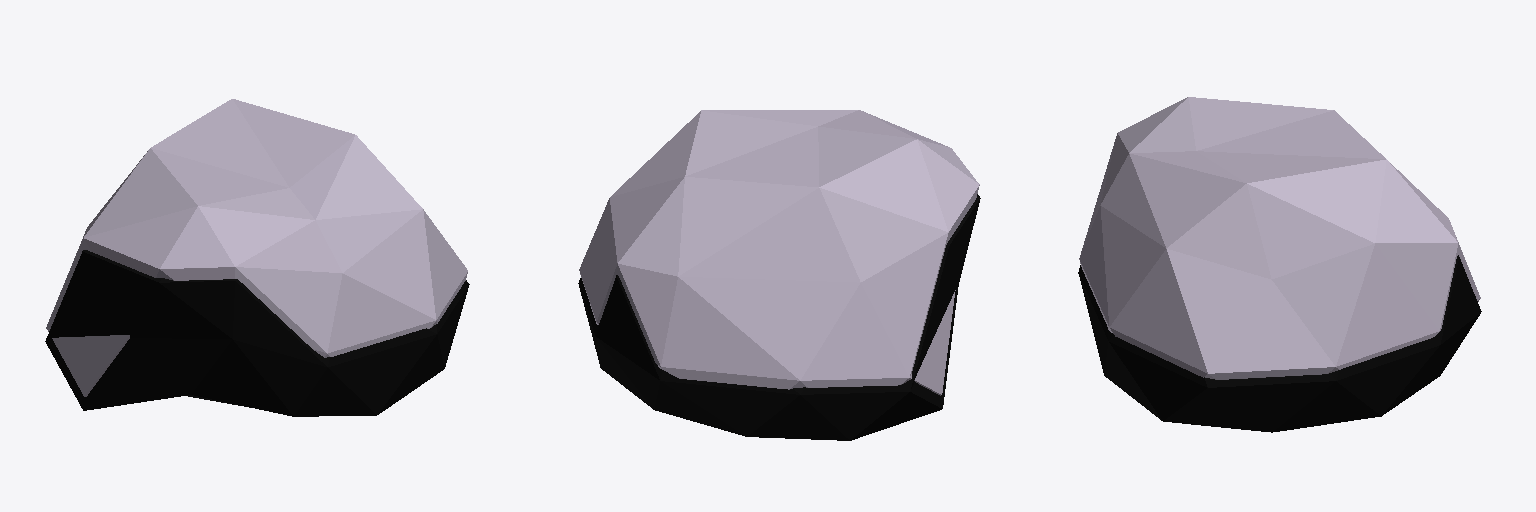
The model's file is Rock03.obj.
The picture shows the model from 3 angles: view 1: azimuth 30°, elevation 25°; view 2: azimuth 150°, elevation 25°; view 3: azimuth 270°, elevation 25°; orthographic projection.
Parts seen in each view (by area): view 1: CaillouxHiver3_Icosphere.006, Icosphere.005; view 2: CaillouxHiver3_Icosphere.006, Icosphere.005; view 3: CaillouxHiver3_Icosphere.006, Icosphere.005.
Part boxes in pixels (bbox=[...]): CaillouxHiver3_Icosphere.006: bbox=[46, 99, 467, 396]; Icosphere.005: bbox=[45, 250, 469, 416]; CaillouxHiver3_Icosphere.006: bbox=[579, 110, 979, 395]; Icosphere.005: bbox=[578, 194, 980, 440]; CaillouxHiver3_Icosphere.006: bbox=[1079, 97, 1480, 379]; Icosphere.005: bbox=[1078, 255, 1481, 432].
Size of the model in its own units: 0.655 by 0.3993 by 0.6449.